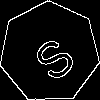S: (24, 27, 80, 85)
